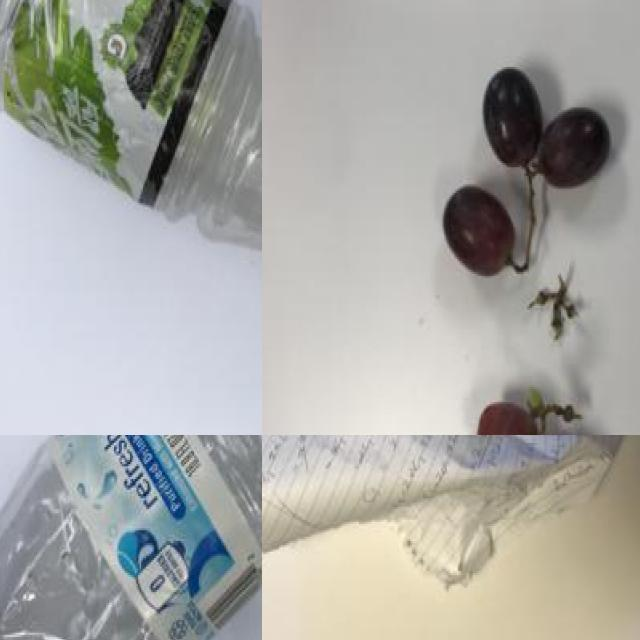compost: (420, 53, 632, 435)
paper: (262, 435, 640, 610)
plastic: (0, 0, 262, 289), (0, 435, 262, 640)
